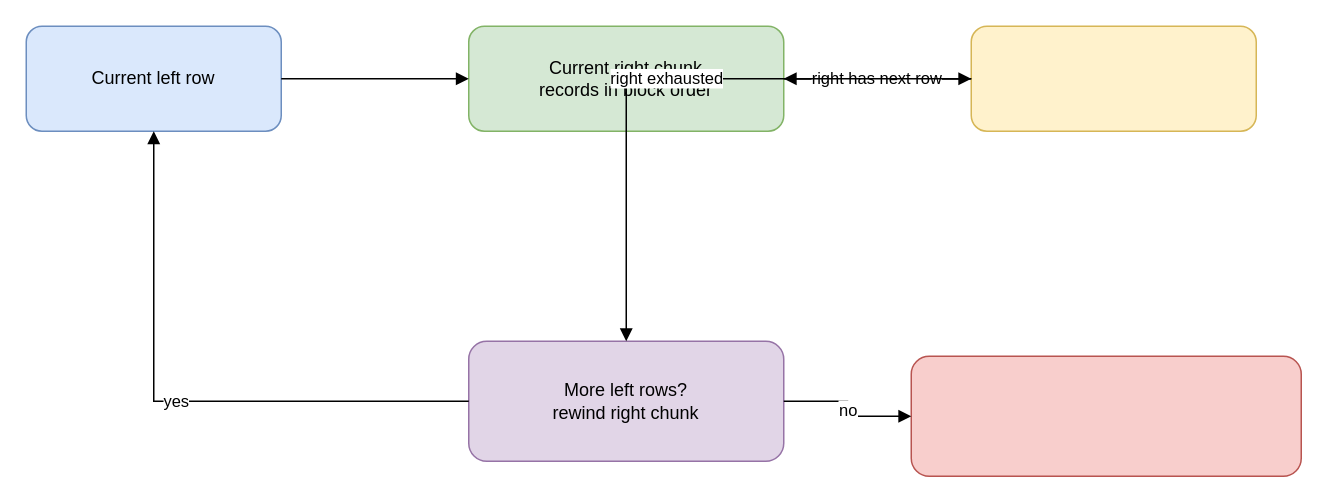
The diagram is 1328 pixels wide and 503 high, and some of its shapes have lost their labels. Here are the shapes that lost their labels. From the top down, the box of each, then its label:
(970, 25, 1256, 131): Emit one product pair
(910, 355, 1301, 476): Current chunk exhausted stop here; later-chunk rollover is separate
